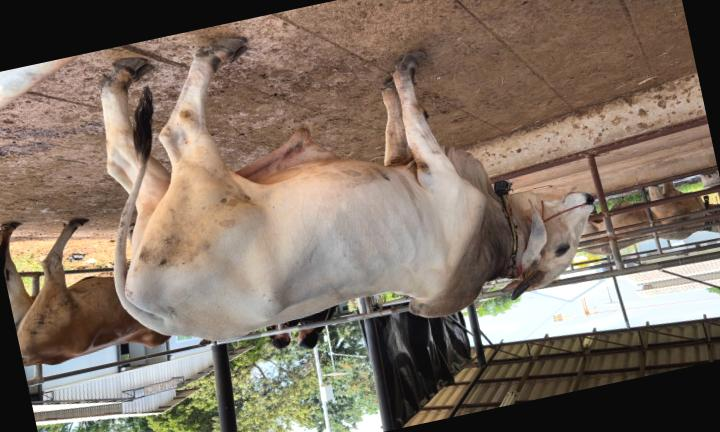Brahman: (101, 38, 593, 340)
